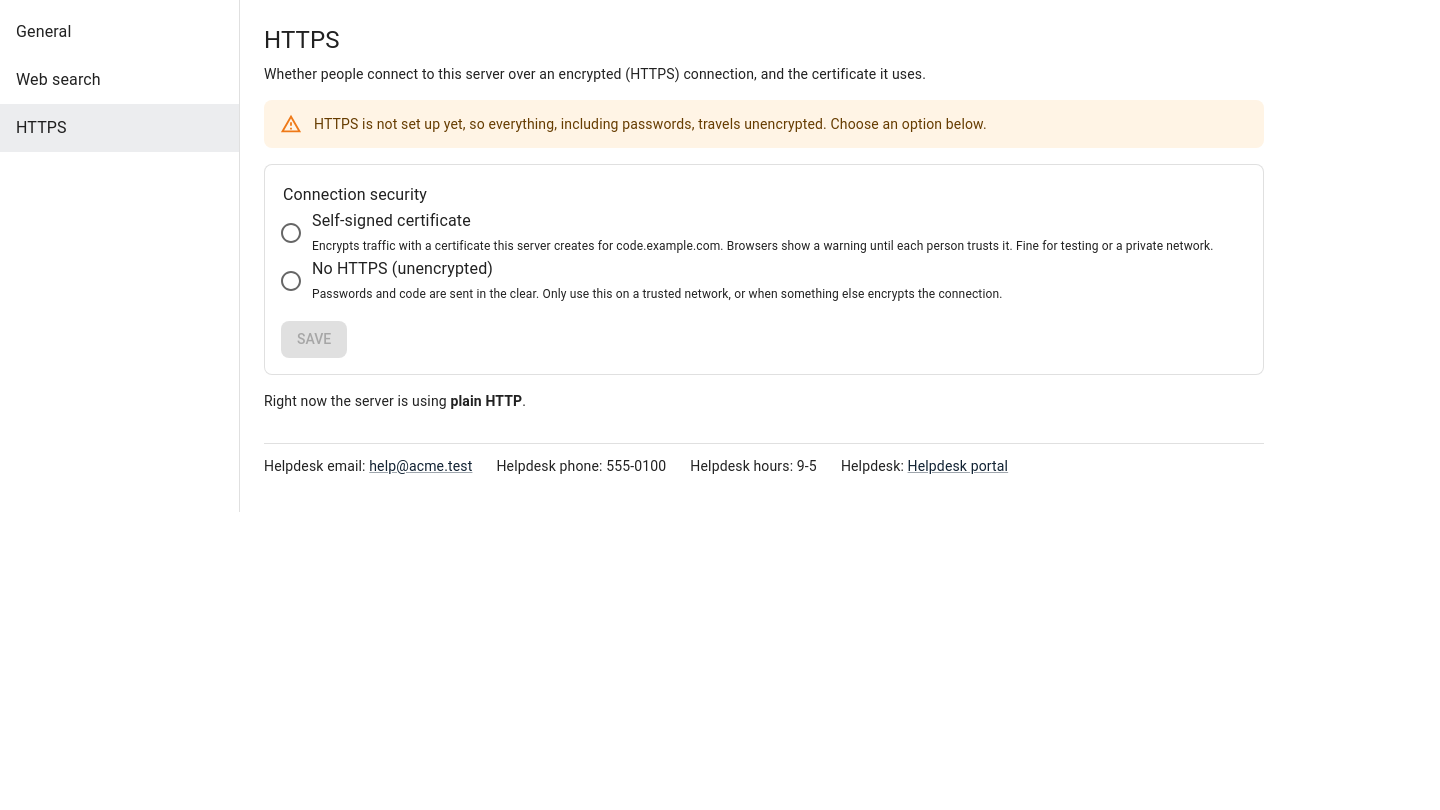
Test: admin HTTPS page › prompts for a choice when unconfigured and saves it
Check: the text "HTTPS is not set up yet" is shown, box [314, 116, 987, 132]
Check: the button "Save" is disabled, box [281, 321, 347, 358]
Click the radio button labelled "Self-signed certificate" at (391, 221), box [270, 209, 1214, 257]
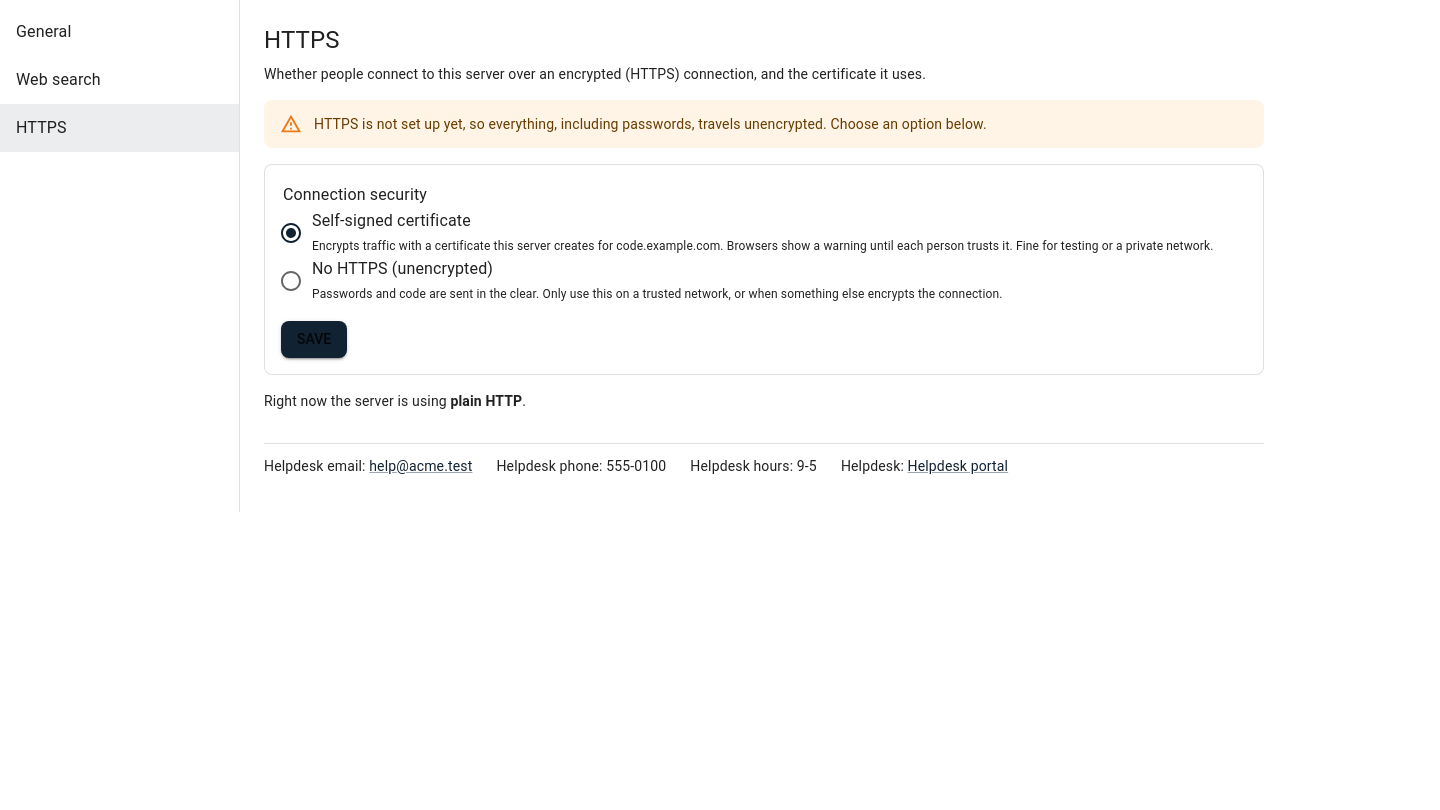
Click the button "Save" at (314, 340), box [281, 321, 347, 358]
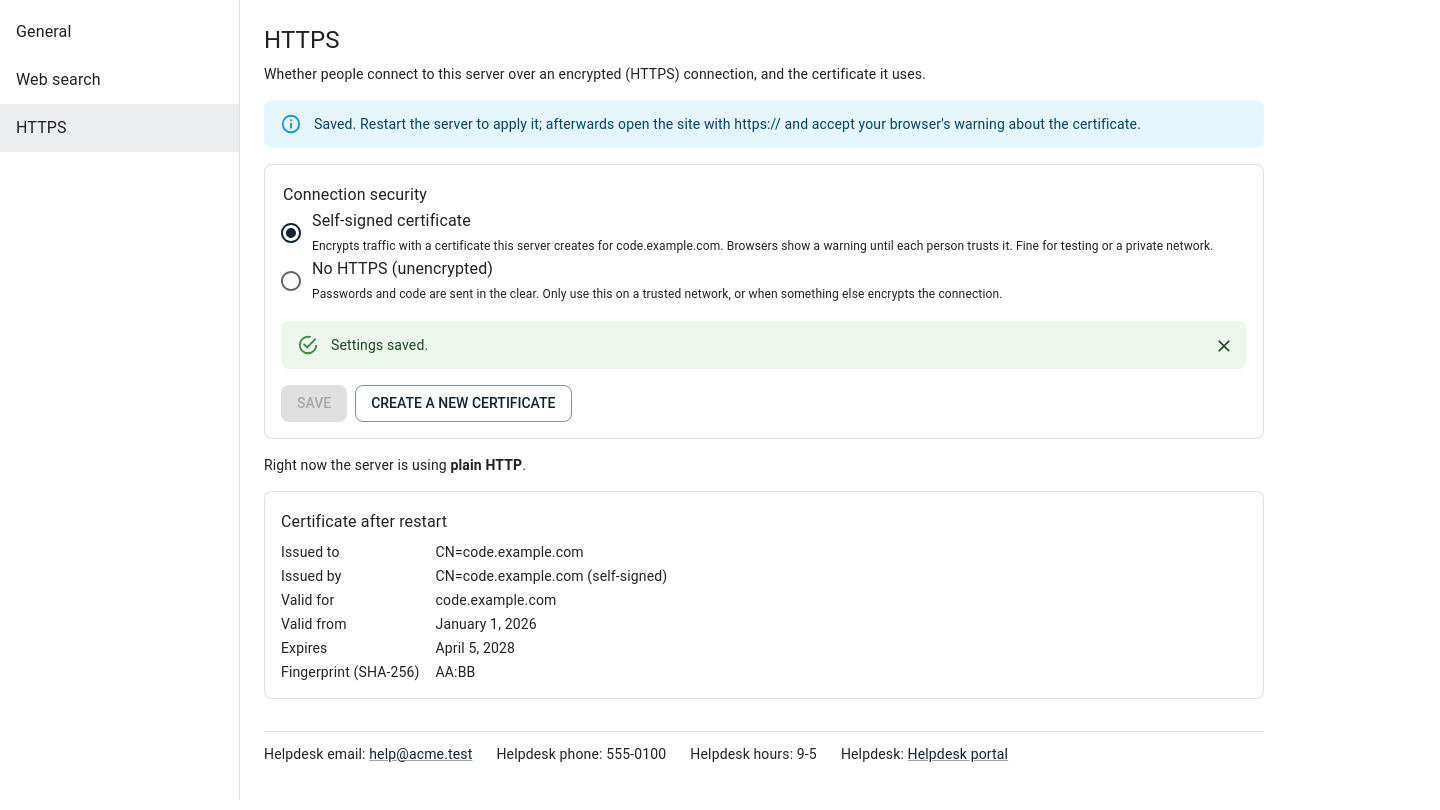
Check: the text "Restart the server to apply it" is shown, box [314, 116, 539, 132]
